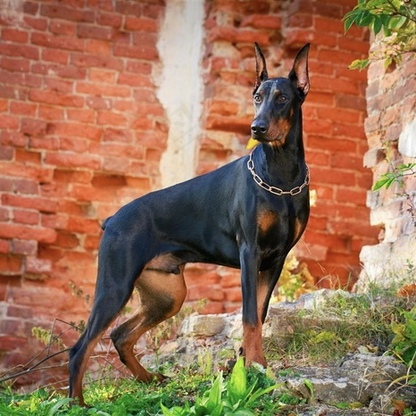doberman: (66, 43, 317, 410)
